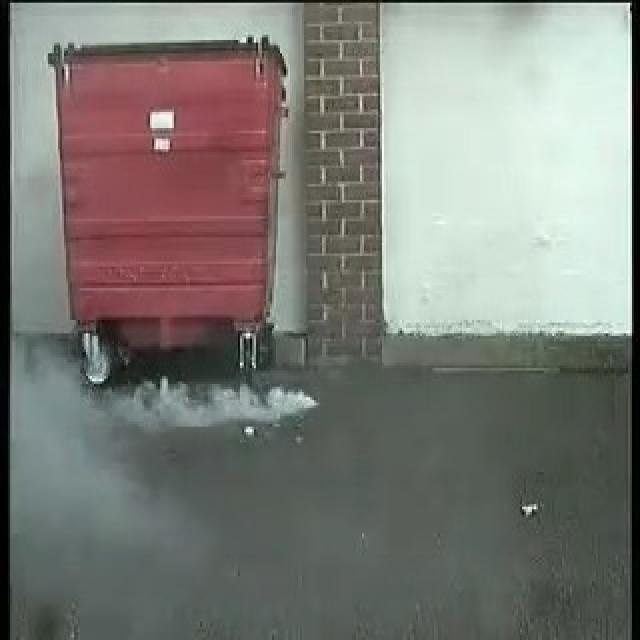smoke: (20, 353, 322, 446)
